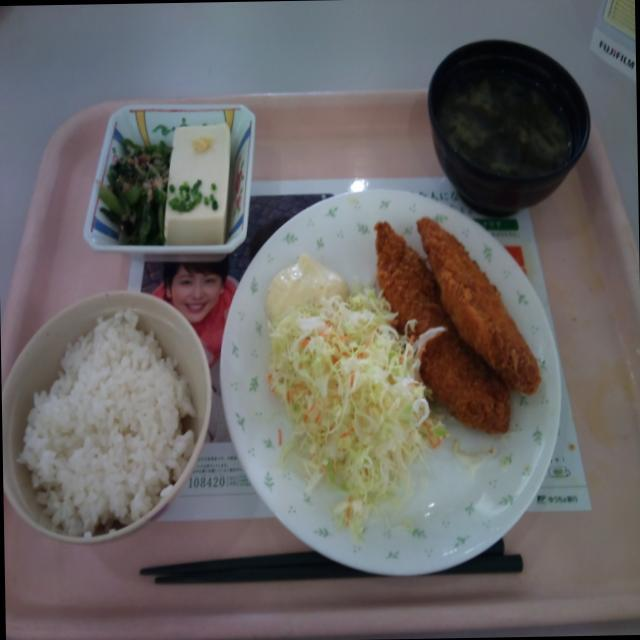Rice: (0, 292, 221, 549)
